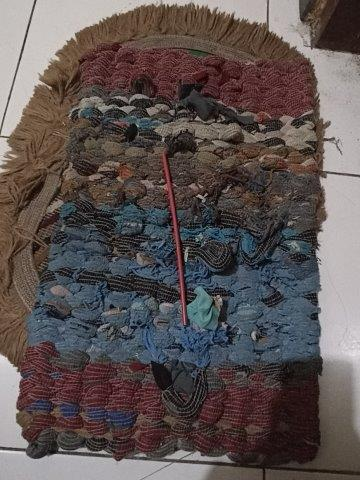sedotan: (162, 153, 188, 325)
